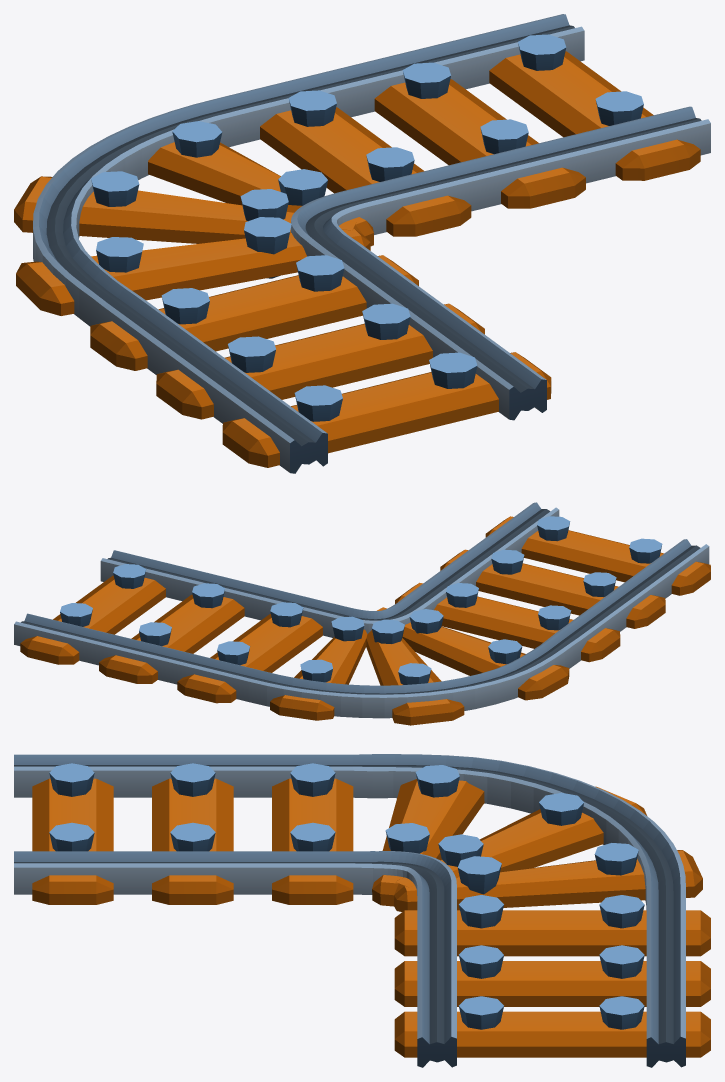
Rendered from 2Br-SagRay.fbx.
3 views of the same model, one above another, from view 1: azimuth 30°, elevation 25°; view 2: azimuth 150°, elevation 25°; view 3: azimuth 270°, elevation 25° (orthographic). The views are drawn at different scales.
Visible parts, largest first — view 1: 2Br-SagRay; view 2: 2Br-SagRay; view 3: 2Br-SagRay.
Boxes of the visible parts, box(x1,y1,x2,y2) form: 2Br-SagRay: box(14, 14, 710, 473); 2Br-SagRay: box(14, 502, 710, 725); 2Br-SagRay: box(14, 754, 710, 1067).
Bounding box in the file's own units: 388 × 25.32 × 388.
